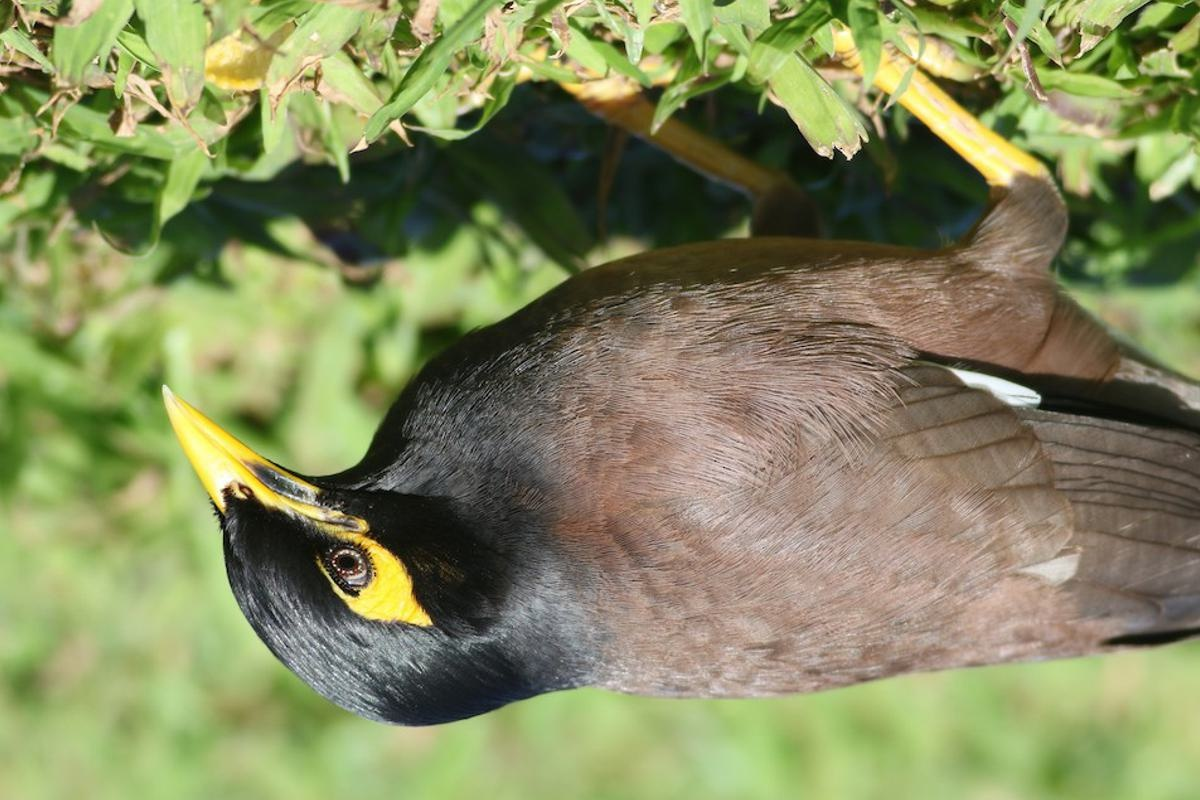myna: (147, 206, 1184, 731)
